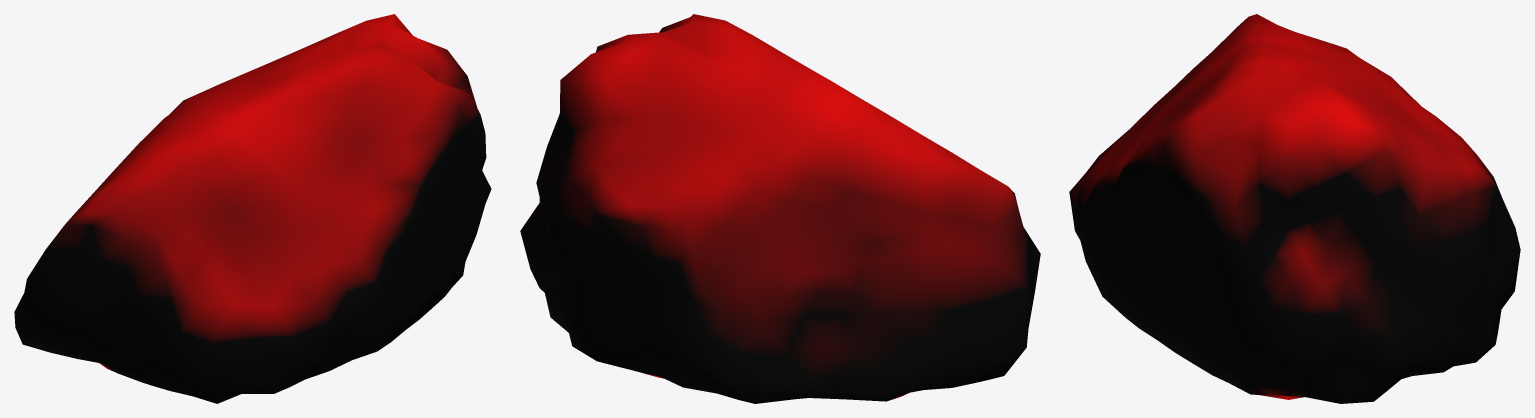
File: rock_e.glb
3 views of the same model, side by side, from view 1: azimuth 30°, elevation 25°; view 2: azimuth 150°, elevation 25°; view 3: azimuth 270°, elevation 25° (orthographic). The views are drawn at different scales.
Parts seen in each view (by area): view 1: rock_e_LOD0; view 2: rock_e_LOD0; view 3: rock_e_LOD0.
Part boxes in pixels (x1=…): rock_e_LOD0: x1=14, y1=14, x2=491, y2=403; rock_e_LOD0: x1=520, y1=14, x2=1040, y2=403; rock_e_LOD0: x1=1069, y1=14, x2=1520, y2=403.
Size of what is drawn, in the model's own units: 3.39 by 1.72 by 2.56.
